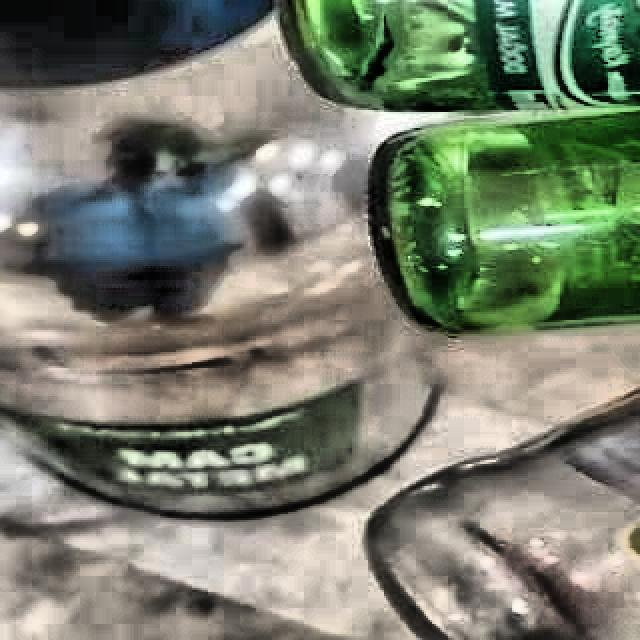glass: (279, 0, 640, 334)
